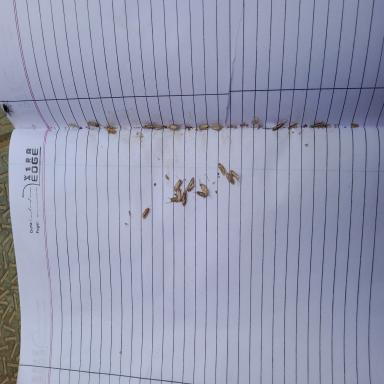pbw: (198, 178, 212, 198), (229, 169, 241, 186), (173, 174, 183, 192), (272, 120, 288, 131), (141, 204, 152, 219), (165, 193, 179, 204), (87, 121, 105, 129), (187, 176, 195, 192), (192, 191, 206, 199), (314, 121, 330, 128), (182, 185, 187, 207), (218, 163, 226, 176), (226, 172, 234, 184), (197, 124, 209, 132), (105, 126, 117, 133), (177, 188, 182, 202), (211, 125, 222, 131), (169, 125, 179, 130), (144, 124, 156, 128), (351, 123, 359, 128), (155, 126, 163, 130), (164, 174, 169, 180)
